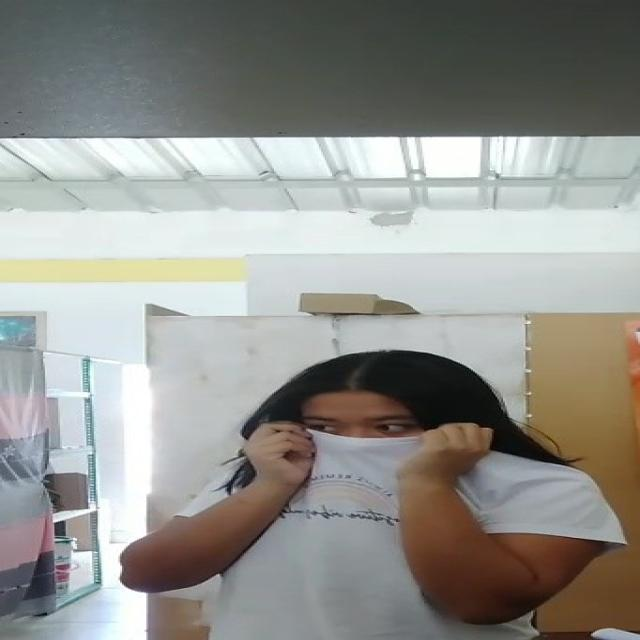8_ropa_rostro: (215, 422, 503, 512)
